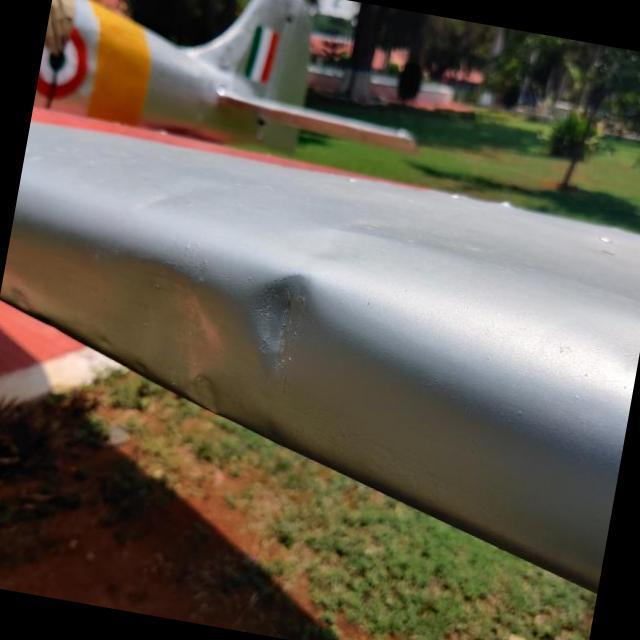dent: (114, 258, 248, 412), (248, 274, 306, 368)
